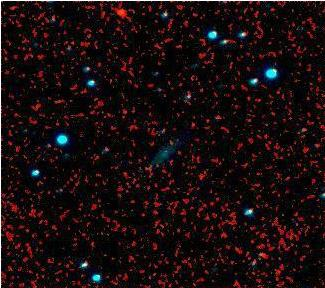star: (106, 0, 136, 25)
